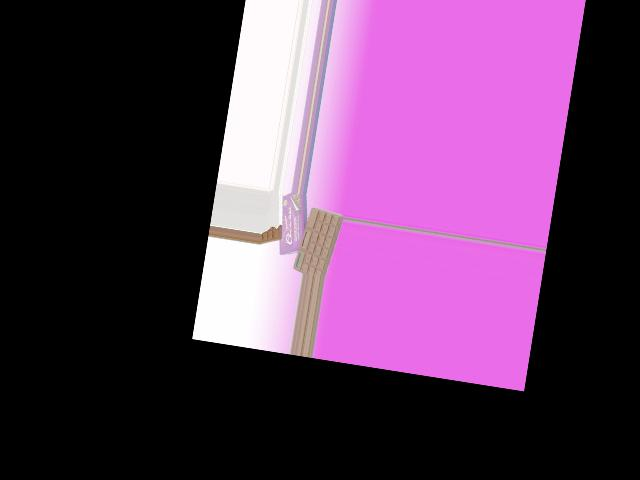chocolate: (291, 206, 344, 276)
